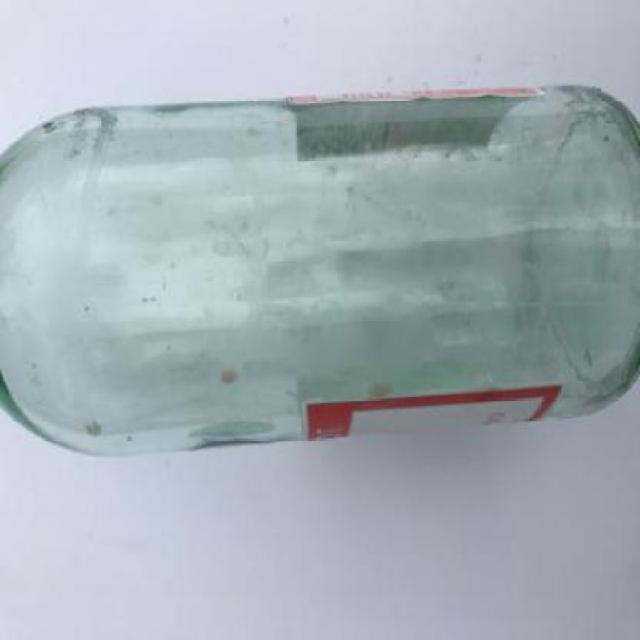kaca: (0, 83, 638, 452)
